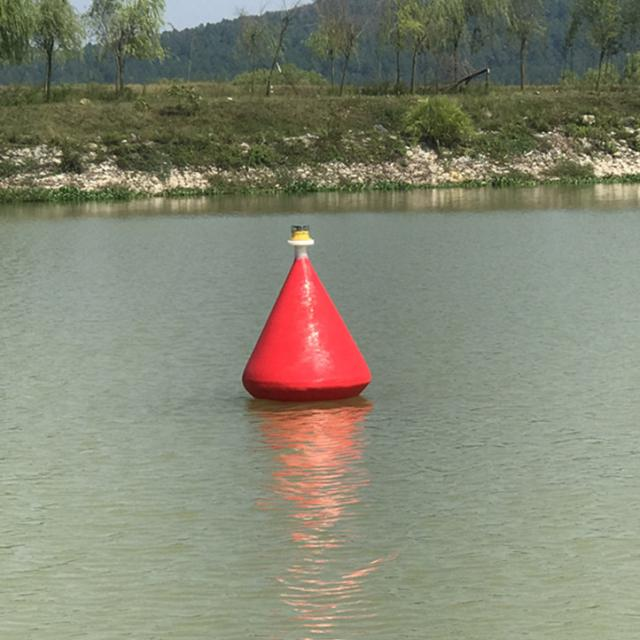buoy: (238, 223, 376, 407)
